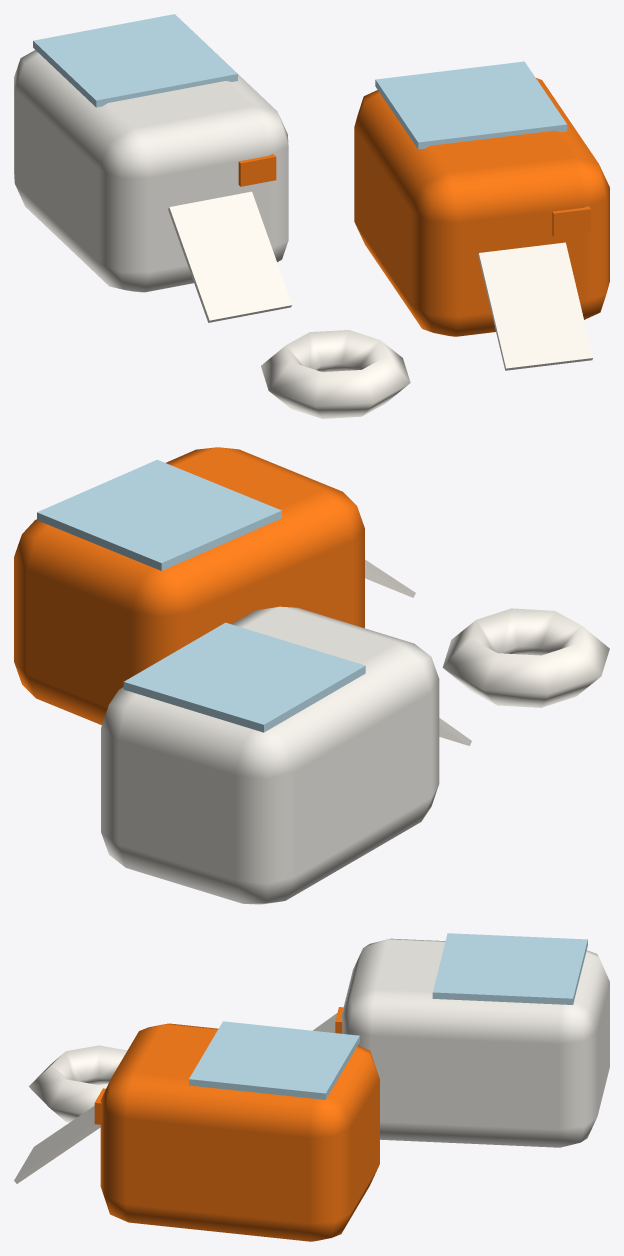
File: station_processing_ausstattung_2_2.glb
3 views of the same model, one above another, from view 1: azimuth 30°, elevation 25°; view 2: azimuth 150°, elevation 25°; view 3: azimuth 270°, elevation 25° (orthographic). The views are drawn at different scales.
Visible parts, largest first — view 1: station_processing_ausstattung_2_2; view 2: station_processing_ausstattung_2_2; view 3: station_processing_ausstattung_2_2.
Boxes of the visible parts, left/top/right/bottom form: station_processing_ausstattung_2_2: left=14, top=14, right=609, bottom=418; station_processing_ausstattung_2_2: left=14, top=447, right=609, bottom=904; station_processing_ausstattung_2_2: left=14, top=933, right=609, bottom=1241.
Bounding box in the file's own units: 0.3649 × 0.144 × 0.507.
